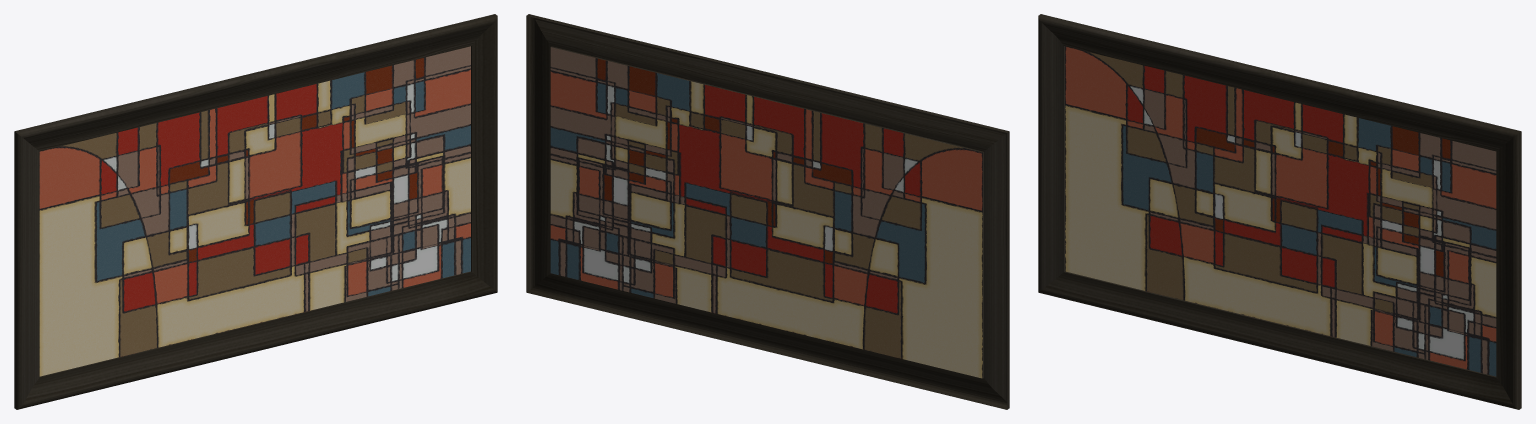
File: ArtP-RtLgF.fbx
The picture shows the model from 3 angles, left to right: view 1: azimuth 30°, elevation 25°; view 2: azimuth 150°, elevation 25°; view 3: azimuth 330°, elevation 25°; orthographic projection.
Visible parts, largest first — view 1: CanvasLgF01, FrameLg; view 2: CanvasLgF01, FrameLg; view 3: CanvasLgF01, FrameLg.
Part boxes in pixels (<box>): CanvasLgF01: <box>39,46,470,376</box>; FrameLg: <box>14,14,497,409</box>; CanvasLgF01: <box>550,47,982,378</box>; FrameLg: <box>526,14,1009,409</box>; CanvasLgF01: <box>1065,46,1496,376</box>; FrameLg: <box>1038,14,1521,409</box>.
Size of the model in its own units: 203 by 112 by 2.76.
